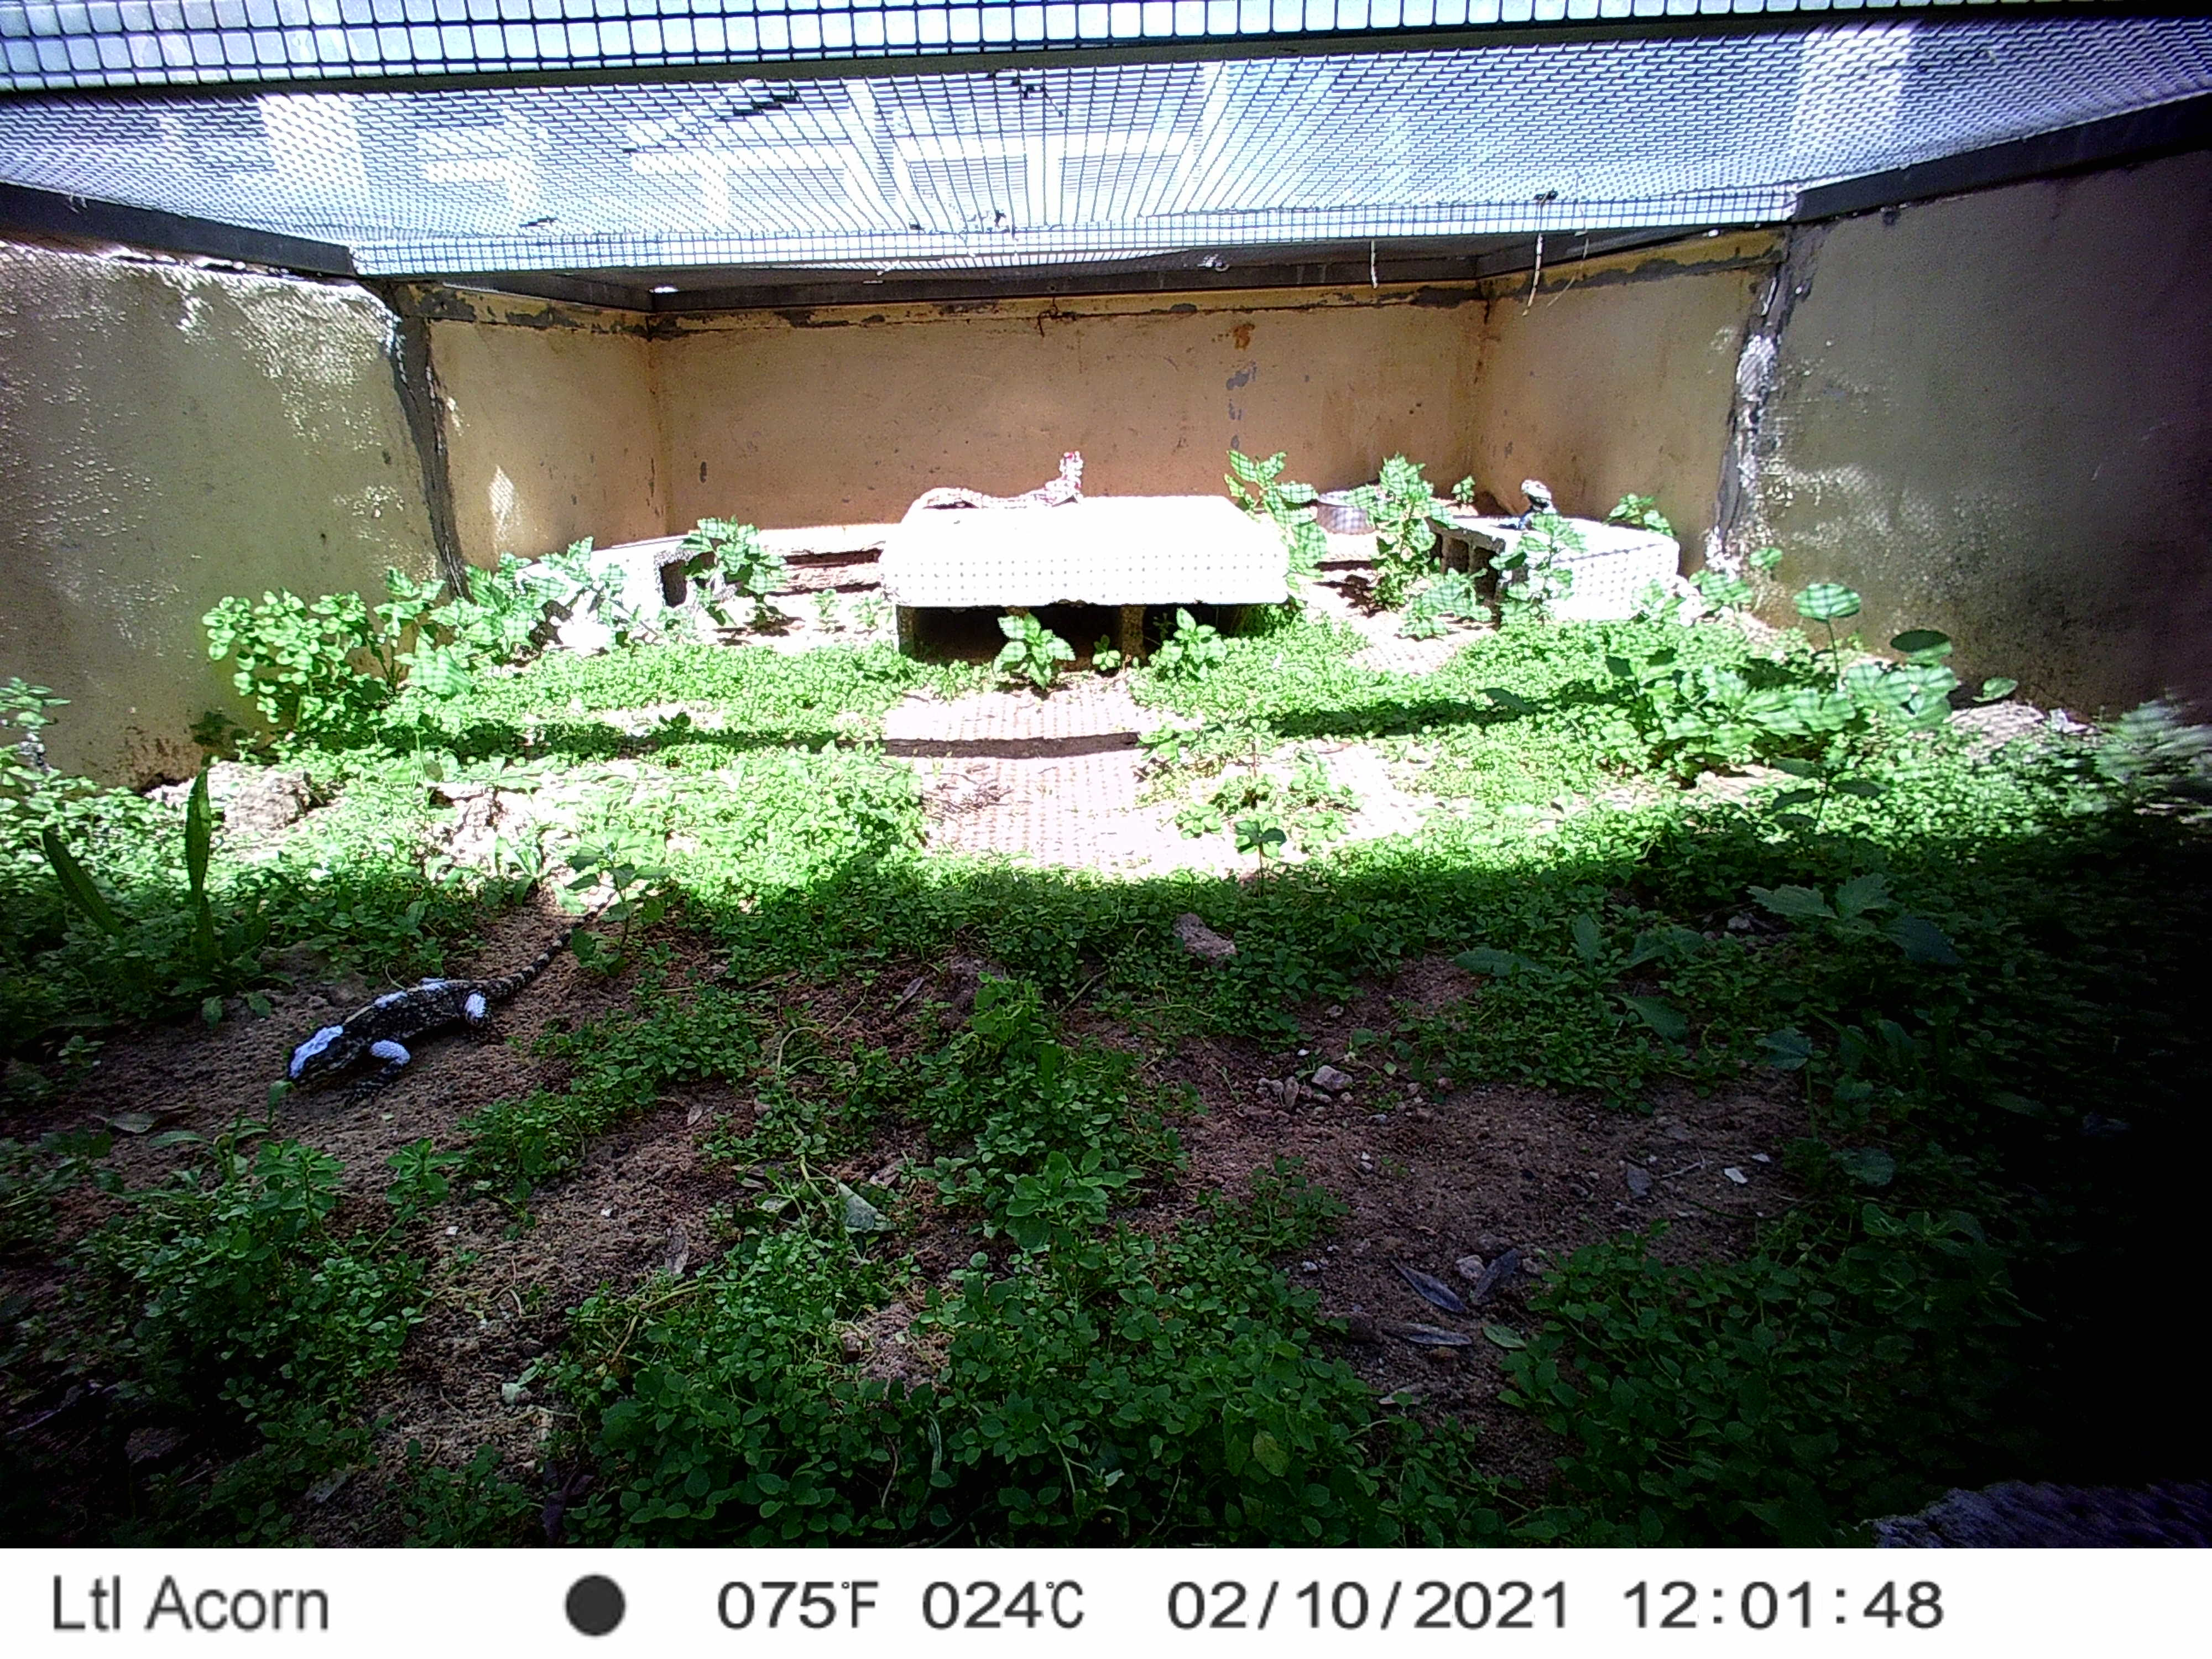lizard: (277, 870, 653, 1108), (925, 448, 1090, 518), (1460, 472, 1566, 538)
